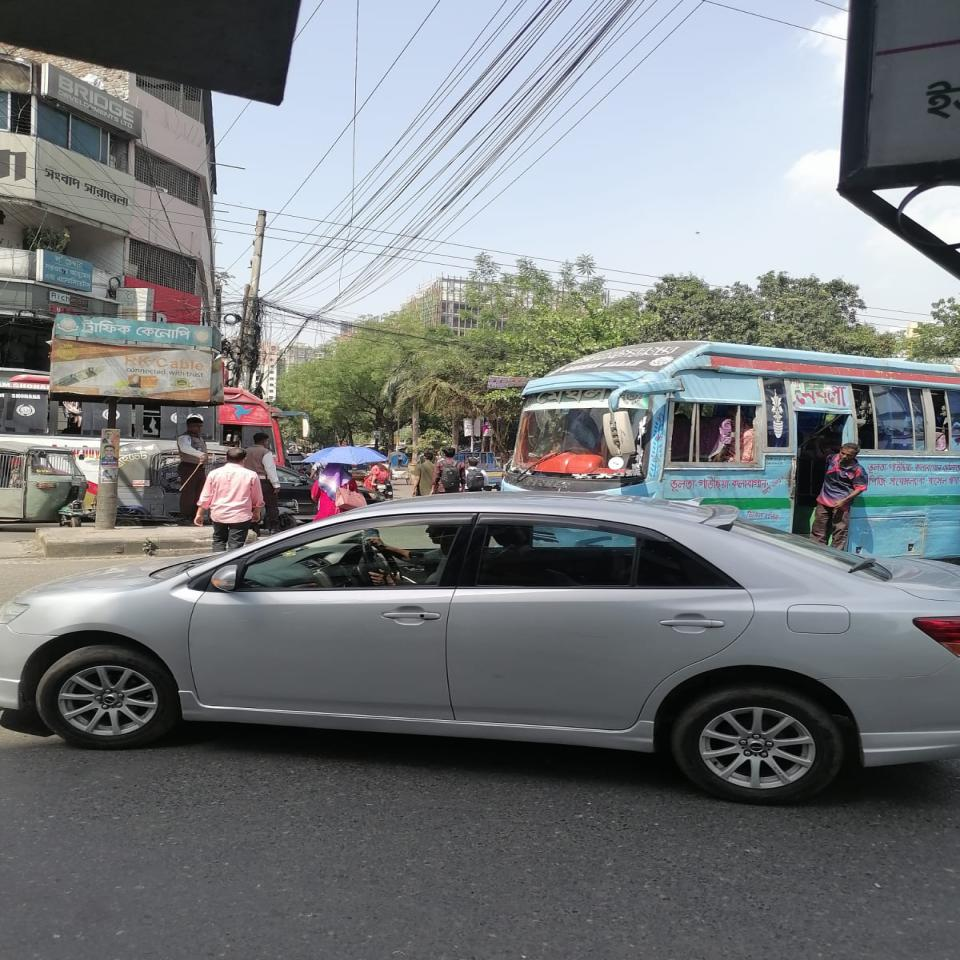person: (194, 448, 264, 553), (311, 448, 367, 520), (432, 446, 466, 495), (411, 452, 436, 497), (466, 458, 488, 492)
